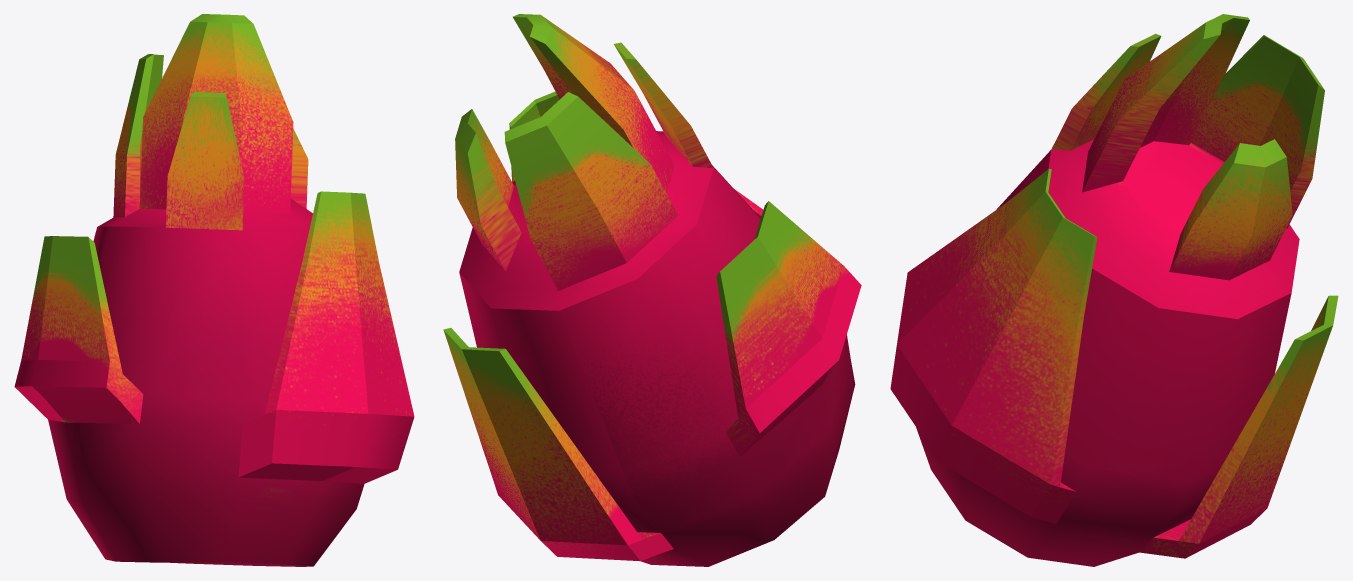
File: dragonfruit.glb
The picture shows the model from 3 angles, left to right: view 1: azimuth 30°, elevation 25°; view 2: azimuth 150°, elevation 25°; view 3: azimuth 270°, elevation 25°; orthographic projection. The views are drawn at different scales.
Visible parts, largest first — view 1: dragonfruit; view 2: dragonfruit; view 3: dragonfruit.
Part boxes in pixels (x1,y1,x2,y2): dragonfruit: [14, 14, 414, 566]; dragonfruit: [443, 14, 861, 566]; dragonfruit: [890, 14, 1338, 566].
Size of the model in its own units: 2.27 by 3.3 by 2.38.
1 material, 1 textured.
